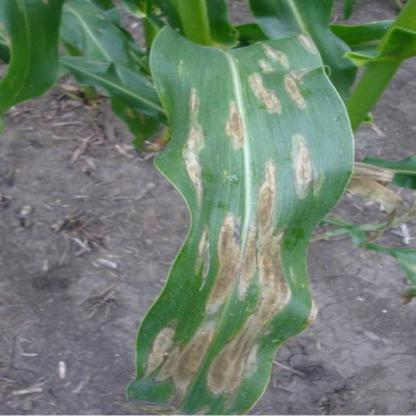corn leaf blight: (110, 28, 359, 416)
